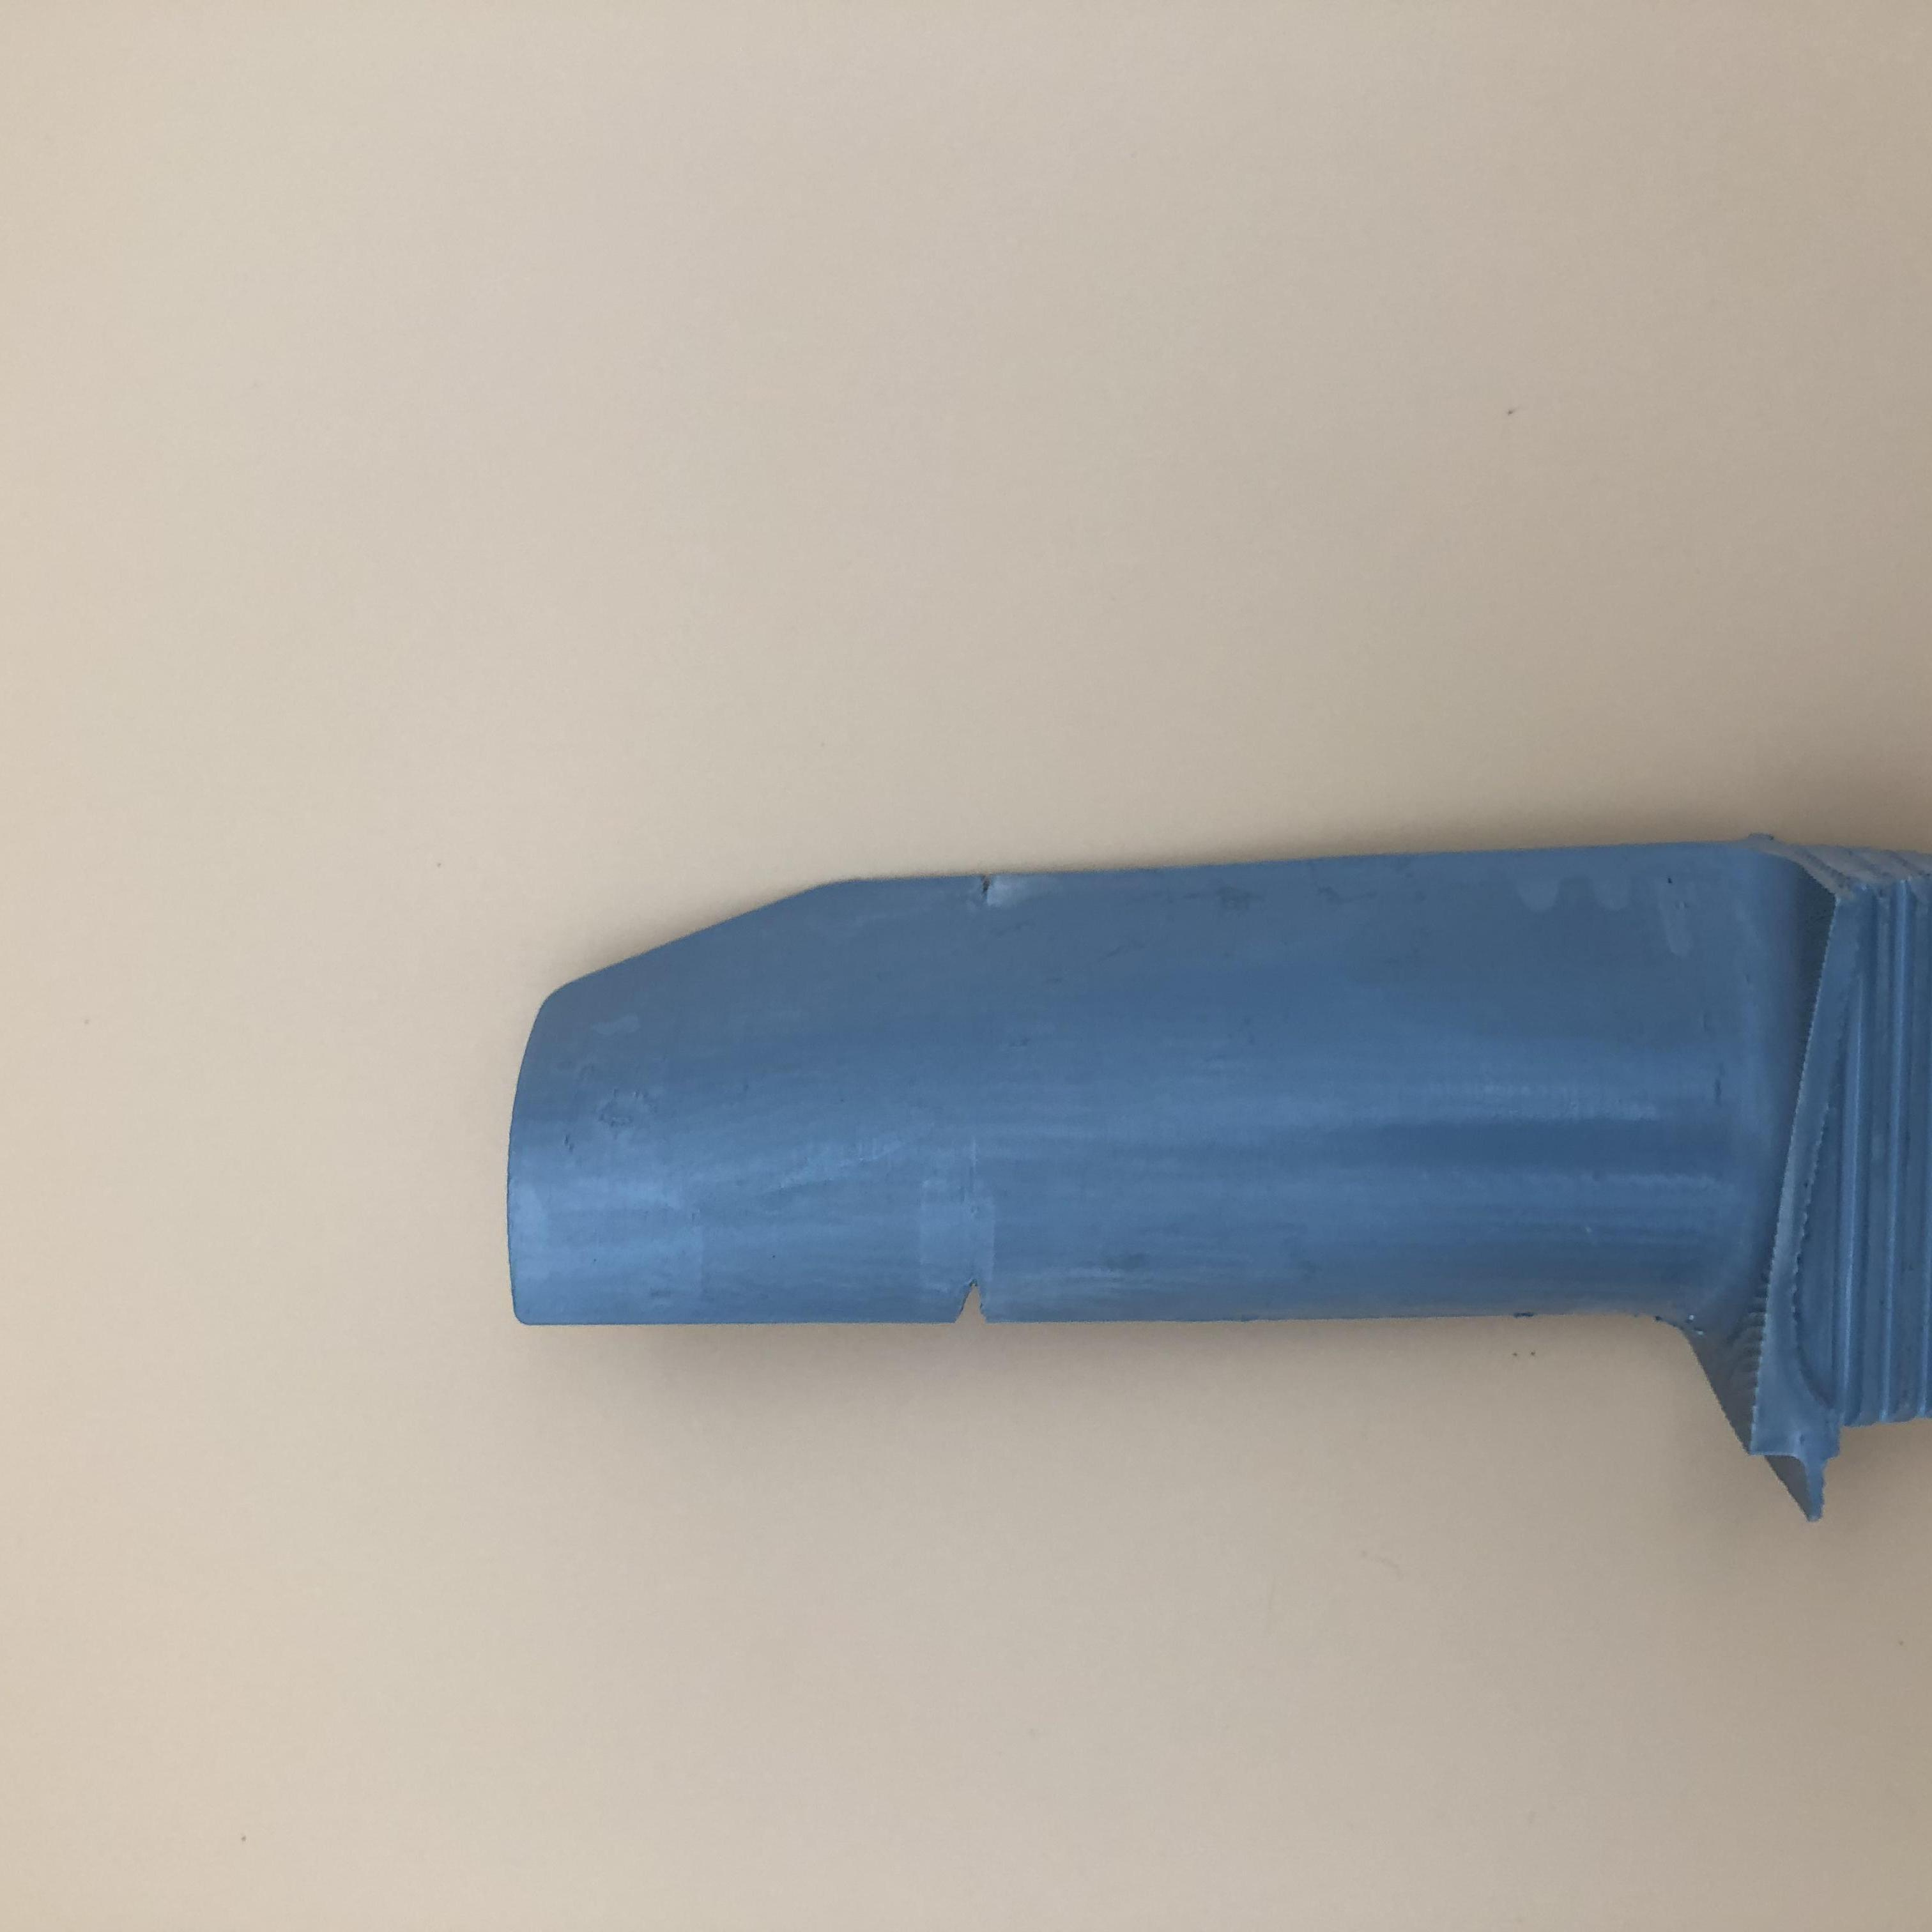groove: (950, 1276, 1008, 1329), (964, 870, 1021, 906)
